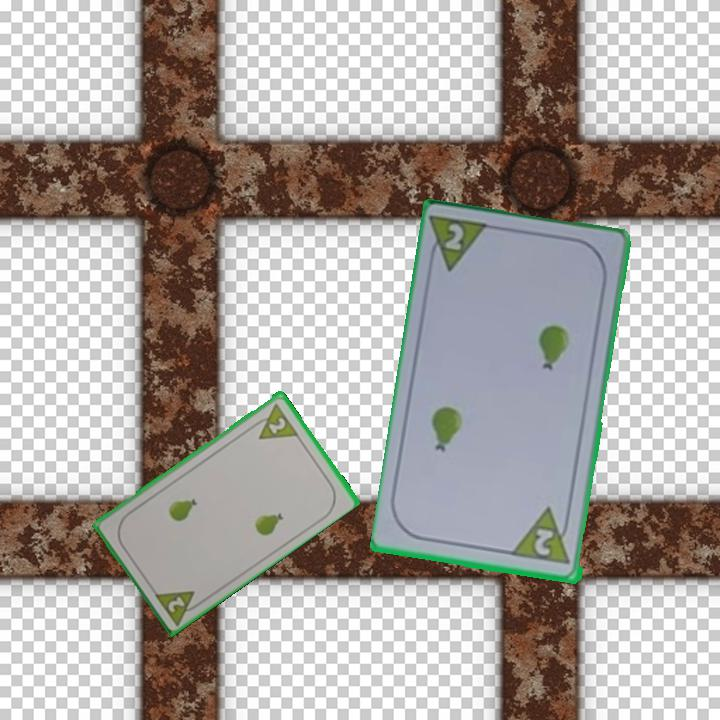2p: (150, 586, 206, 627), (531, 525, 558, 559), (442, 220, 467, 254), (265, 413, 289, 436)
